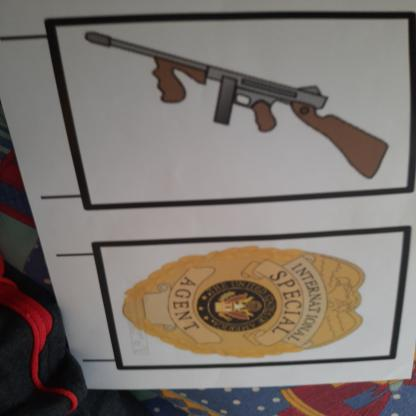Bootlegger: (74, 23, 404, 195)
G-man: (110, 238, 388, 373)
